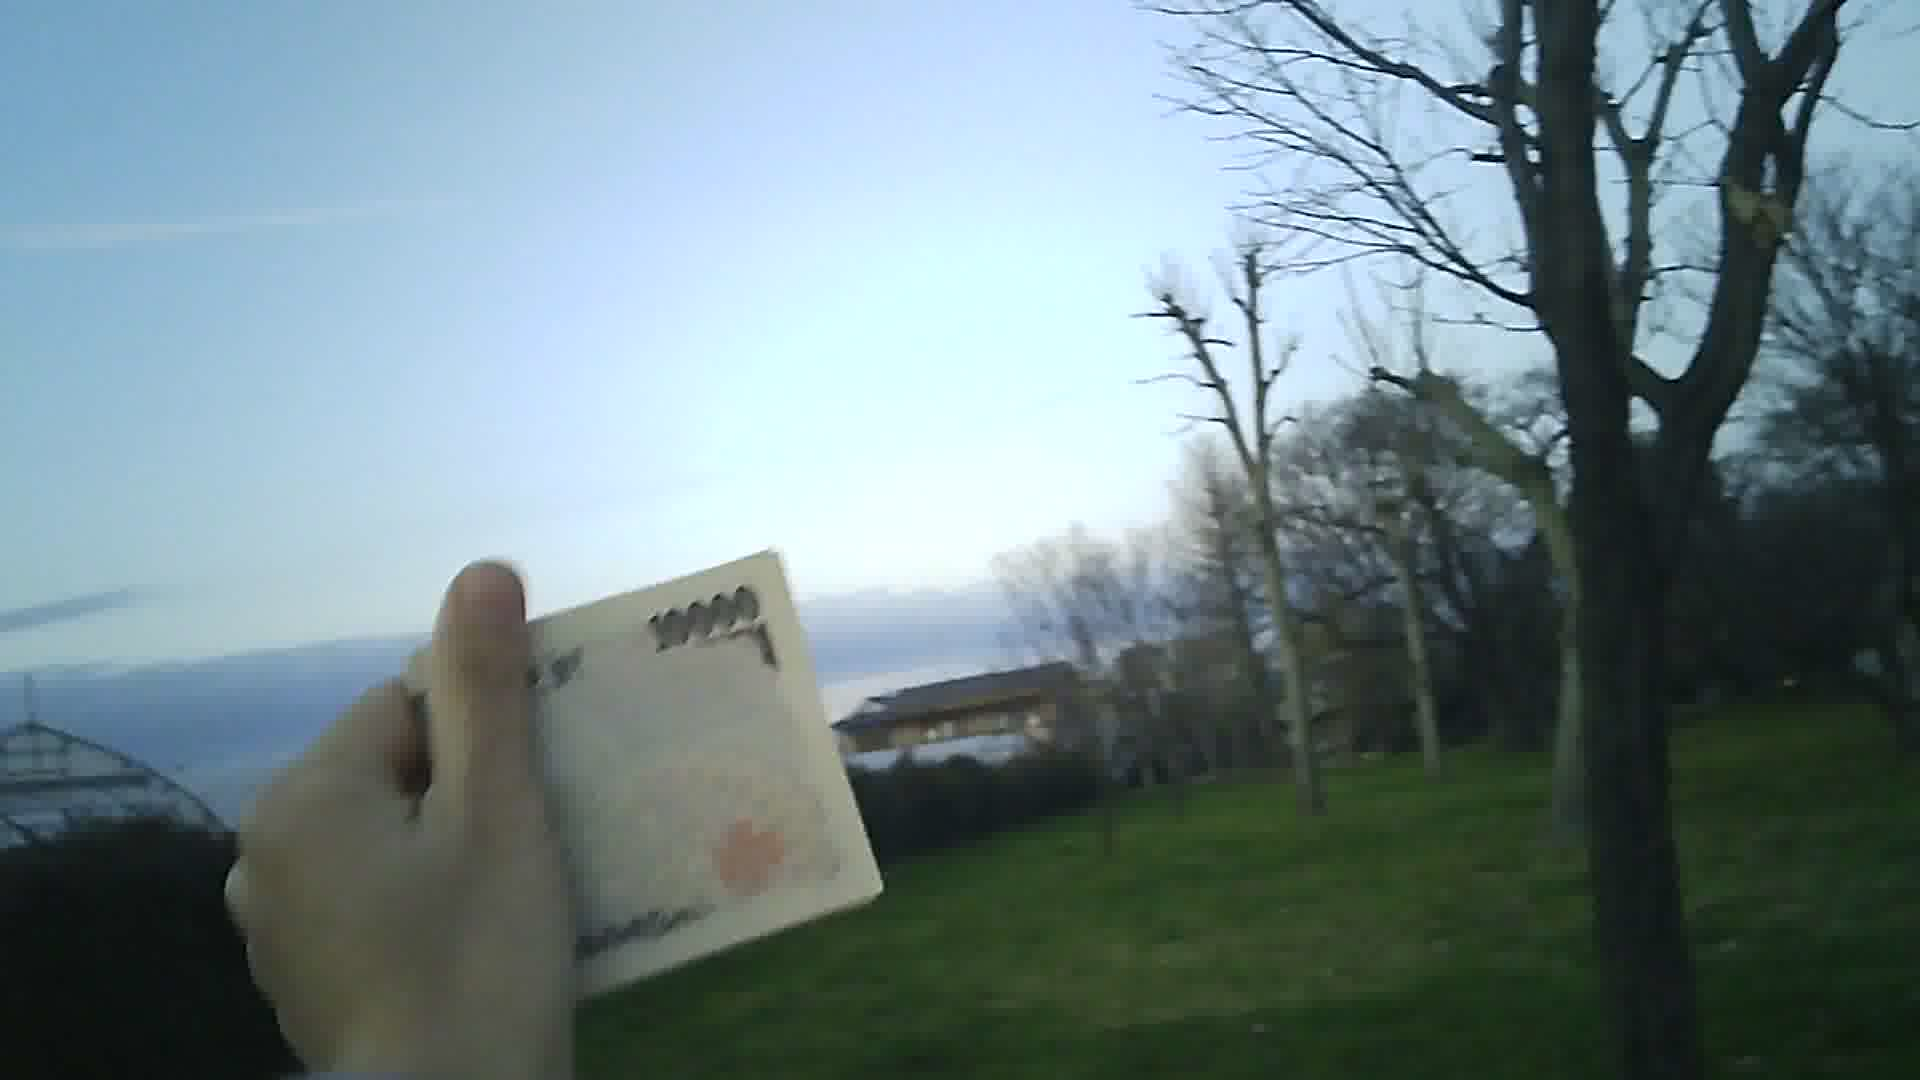10,000 Yen: (396, 527, 876, 969)
